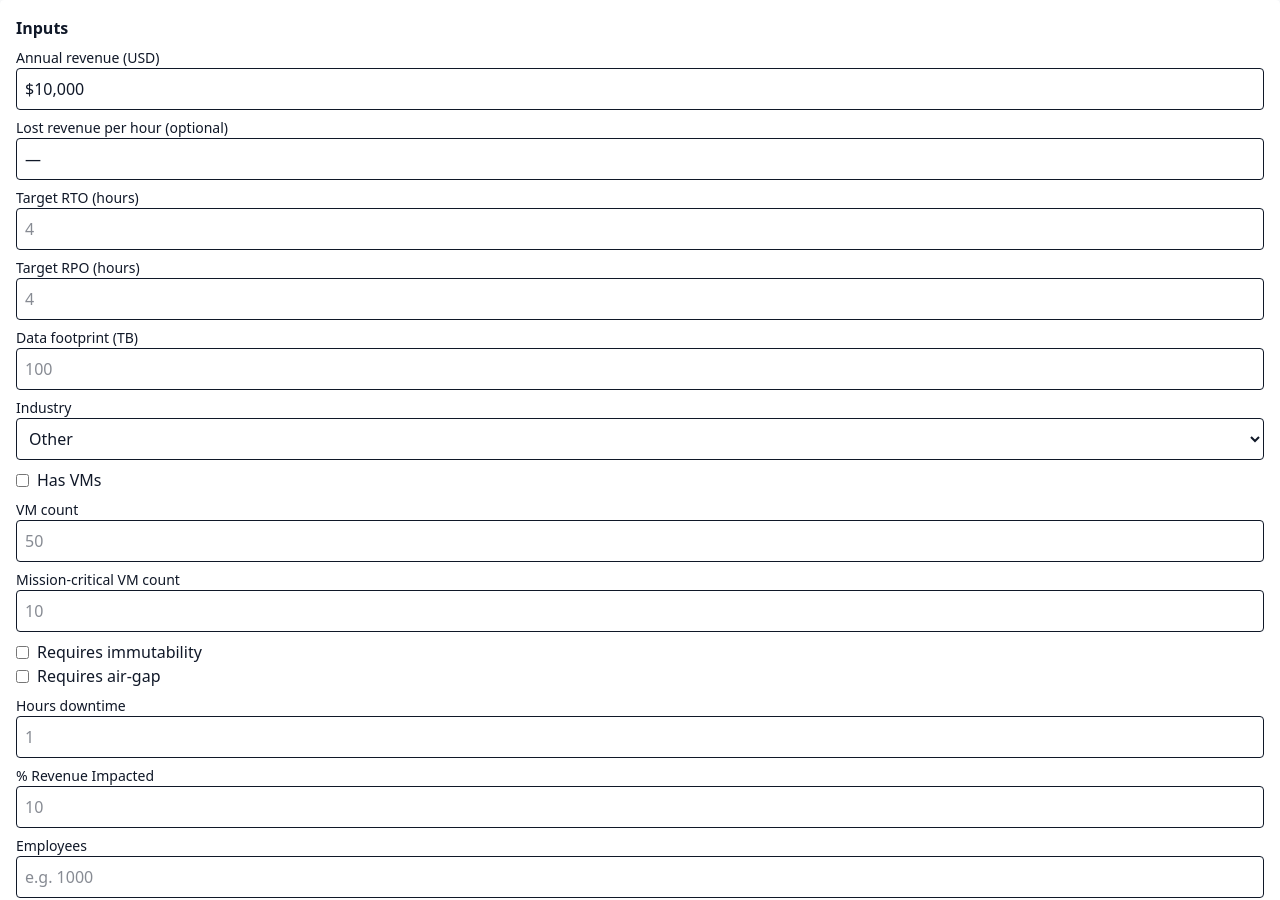
Test: InputForm - Currency Formatting › displays unformatted number when focused for editing
Focus the 1st field with placeholder "e.g. 100000000": (640, 89) [16,68,1264,110]
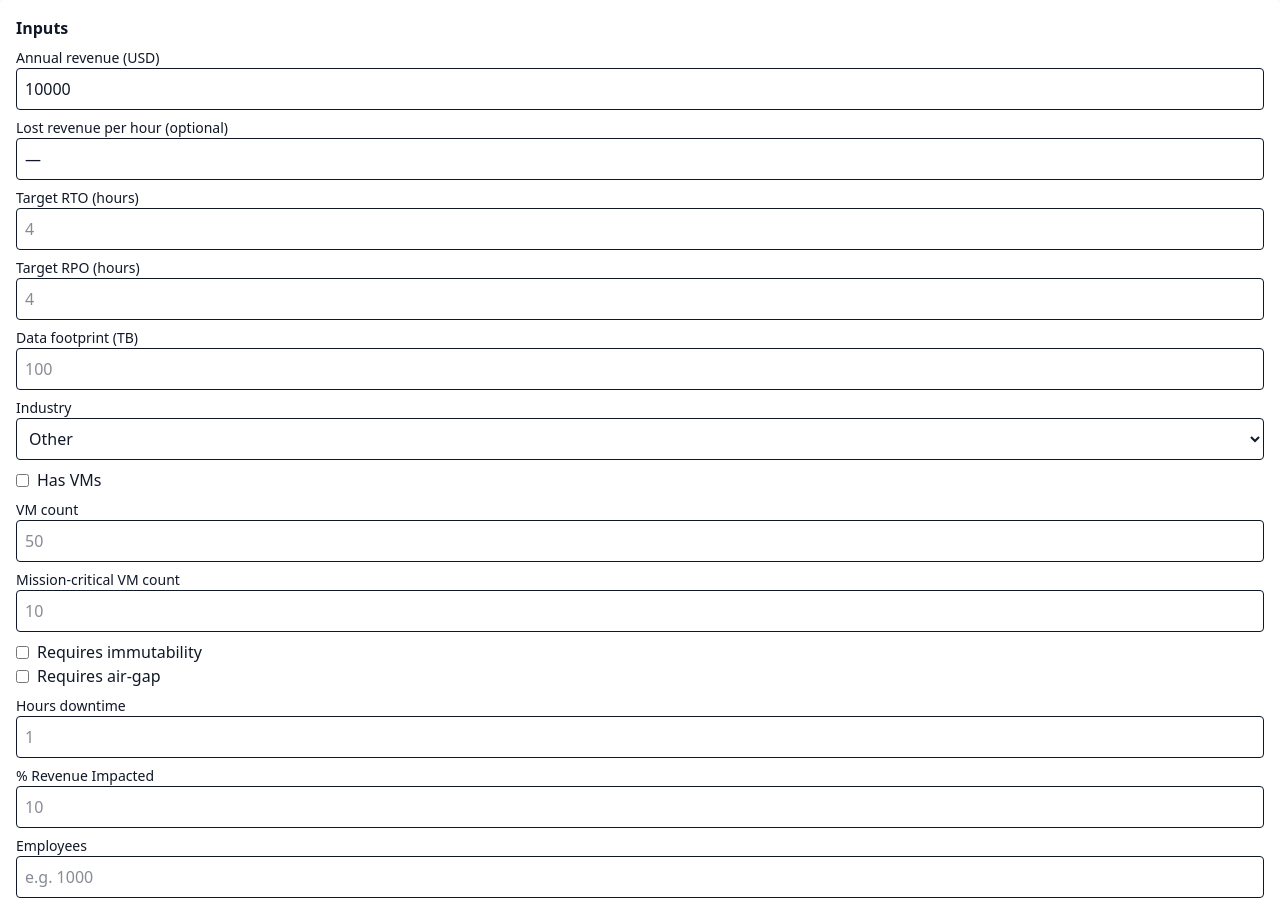
Result: the 1st field with placeholder "e.g. 100000000" holds "10000" at [16,68,1264,110]
